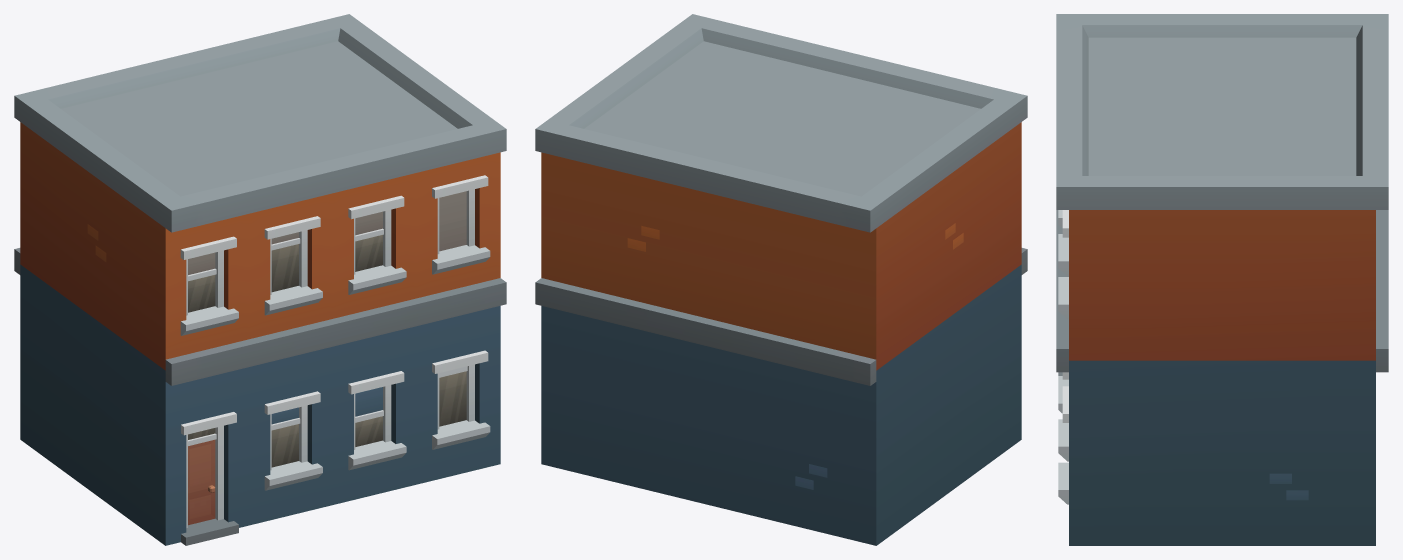
The model's file is kk_building_B.glb.
3 views of the same model, side by side, from view 1: azimuth 30°, elevation 25°; view 2: azimuth 150°, elevation 25°; view 3: azimuth 270°, elevation 25° (orthographic). The views are drawn at different scales.
Parts seen in each view (by area): view 1: building_B_withoutBase; view 2: building_B_withoutBase; view 3: building_B_withoutBase.
Part boxes in pixels (x1,y1,x2,y2): building_B_withoutBase: [14, 14, 506, 545]; building_B_withoutBase: [535, 14, 1027, 545]; building_B_withoutBase: [1056, 14, 1388, 545].
Bounding box in the file's own units: 1.61 × 1.55 × 1.3.
Materials: 1 (1 with a texture image).
